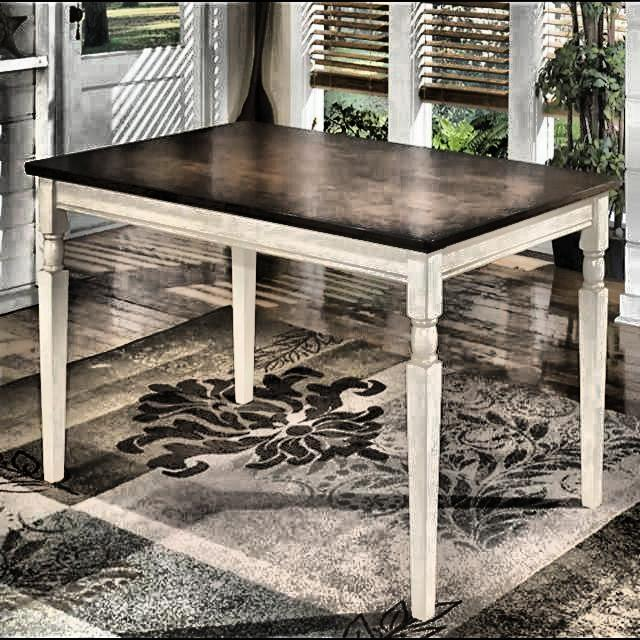mesa: (21, 102, 622, 630)
